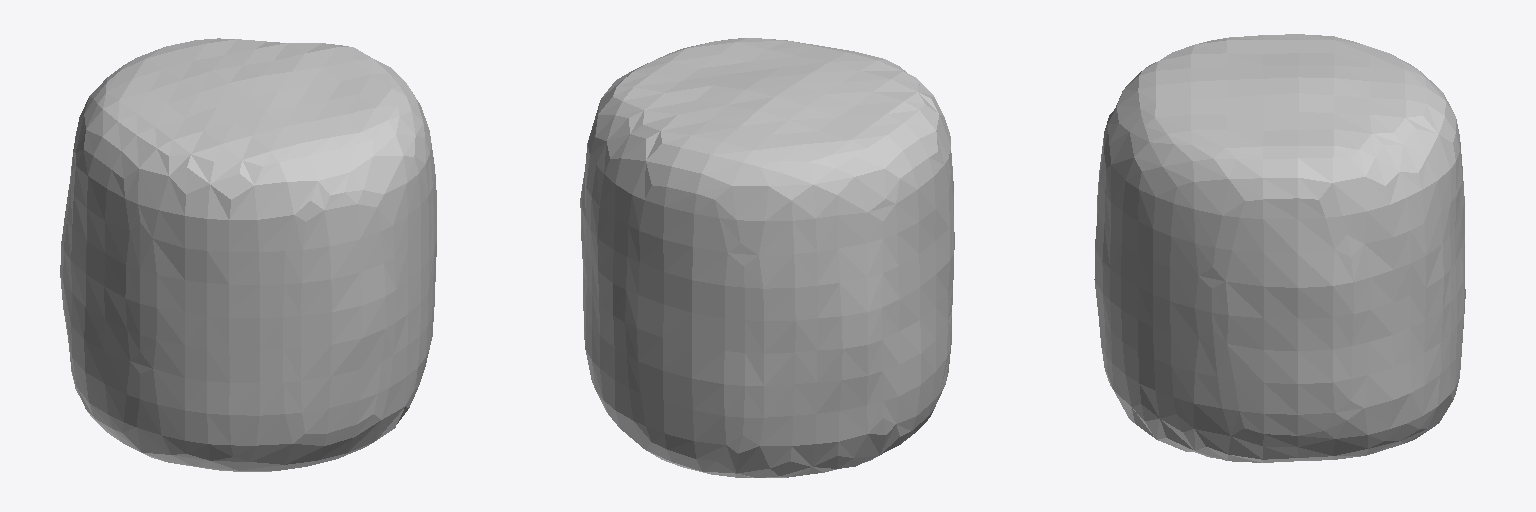
File: bol_step_0.obj
The picture shows the model from 3 angles: view 1: azimuth 30°, elevation 25°; view 2: azimuth 150°, elevation 25°; view 3: azimuth 270°, elevation 25°; orthographic projection.
Visible parts, largest first — view 1: Mesh; view 2: Mesh; view 3: Mesh.
Part boxes in pixels (left/top/right/bottom): Mesh: left=60, top=38, right=436, bottom=471; Mesh: left=580, top=38, right=954, bottom=477; Mesh: left=1094, top=34, right=1465, bottom=462.
Size of the model in its own units: 2.08 by 2.08 by 2.05.